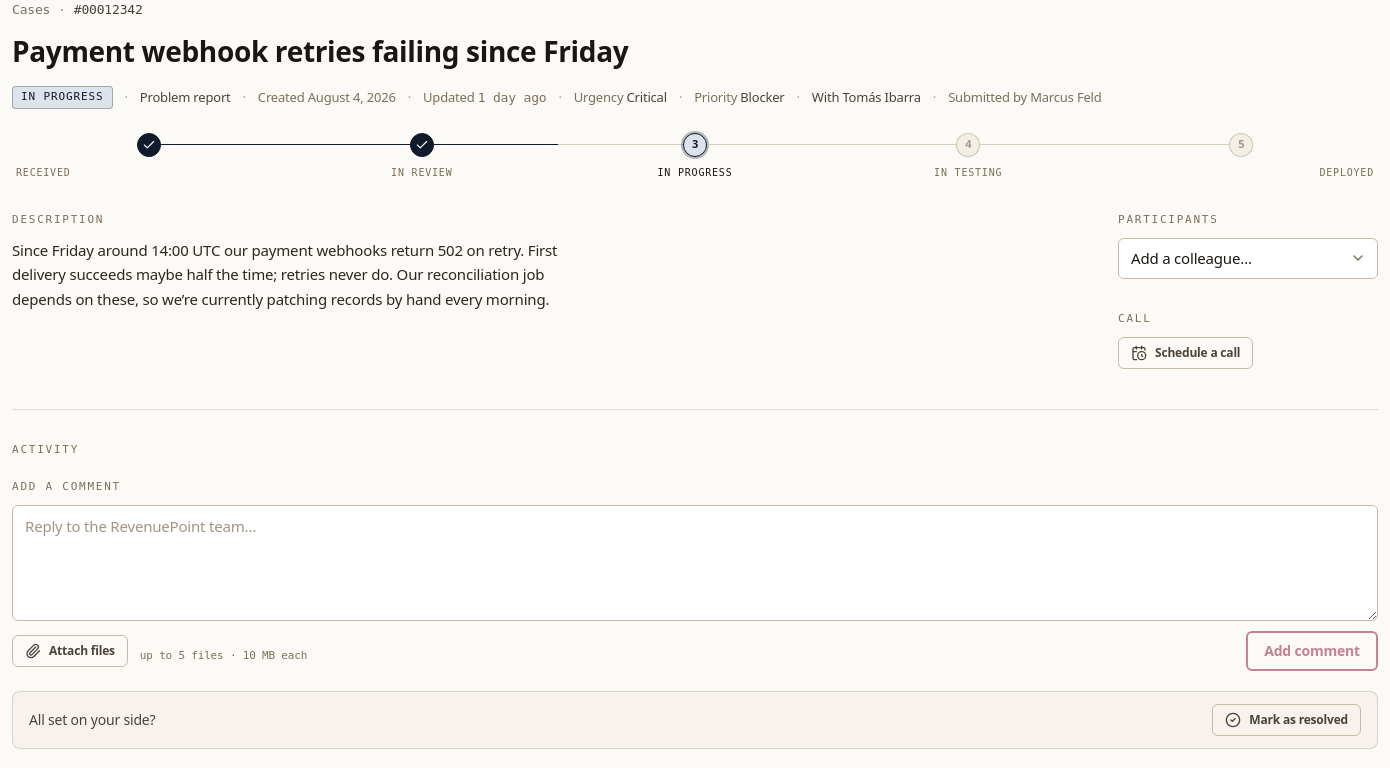
Test: CommentComposer › appends the comment optimistically before the server responds
Check: the heading "Payment webhook retries failing since Friday" is shown, box [12, 32, 628, 70]
Type "Confirmed — retries are flowing again on our side." into the text box labelled "Add a comment" at point(695, 563), box [12, 505, 1378, 620]
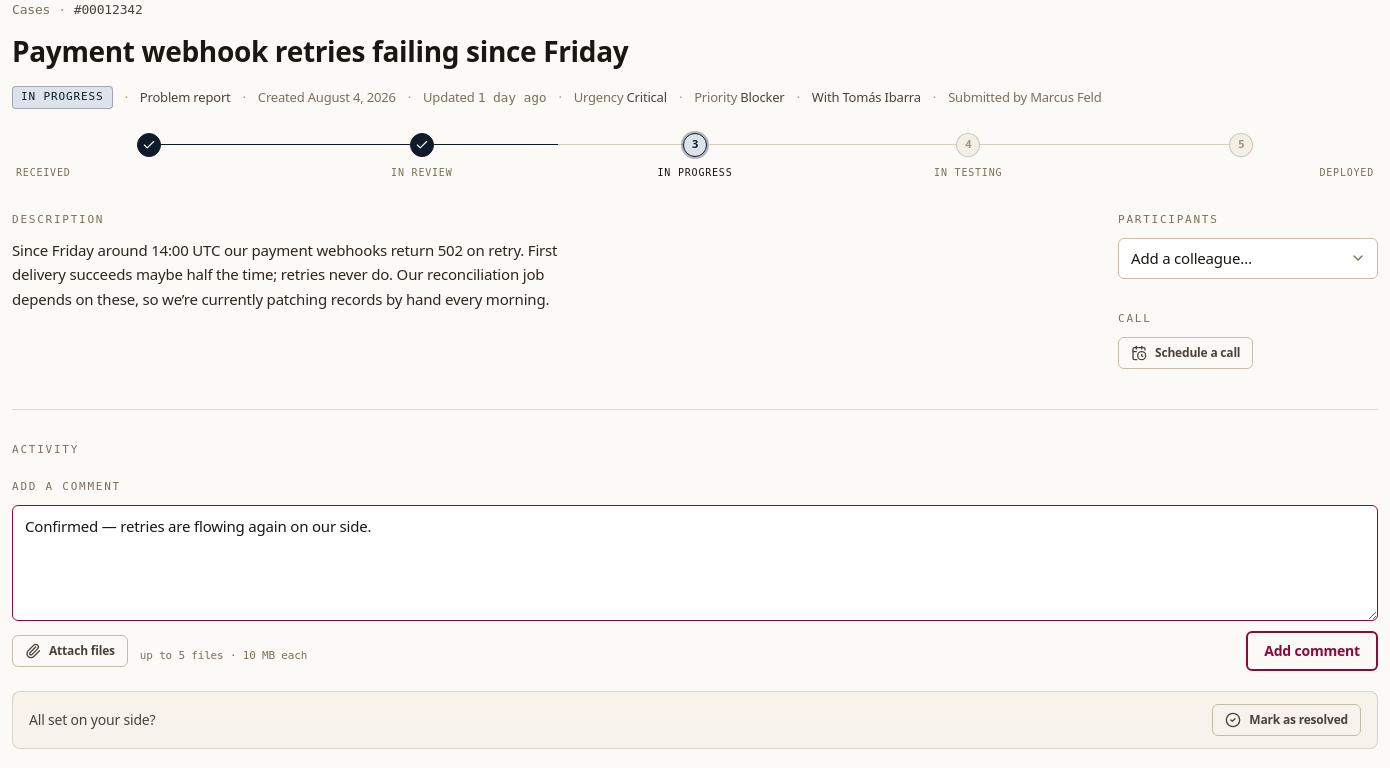
Click the button "Add comment" at point(1312, 650), box [1246, 630, 1378, 670]
(page scrolled)
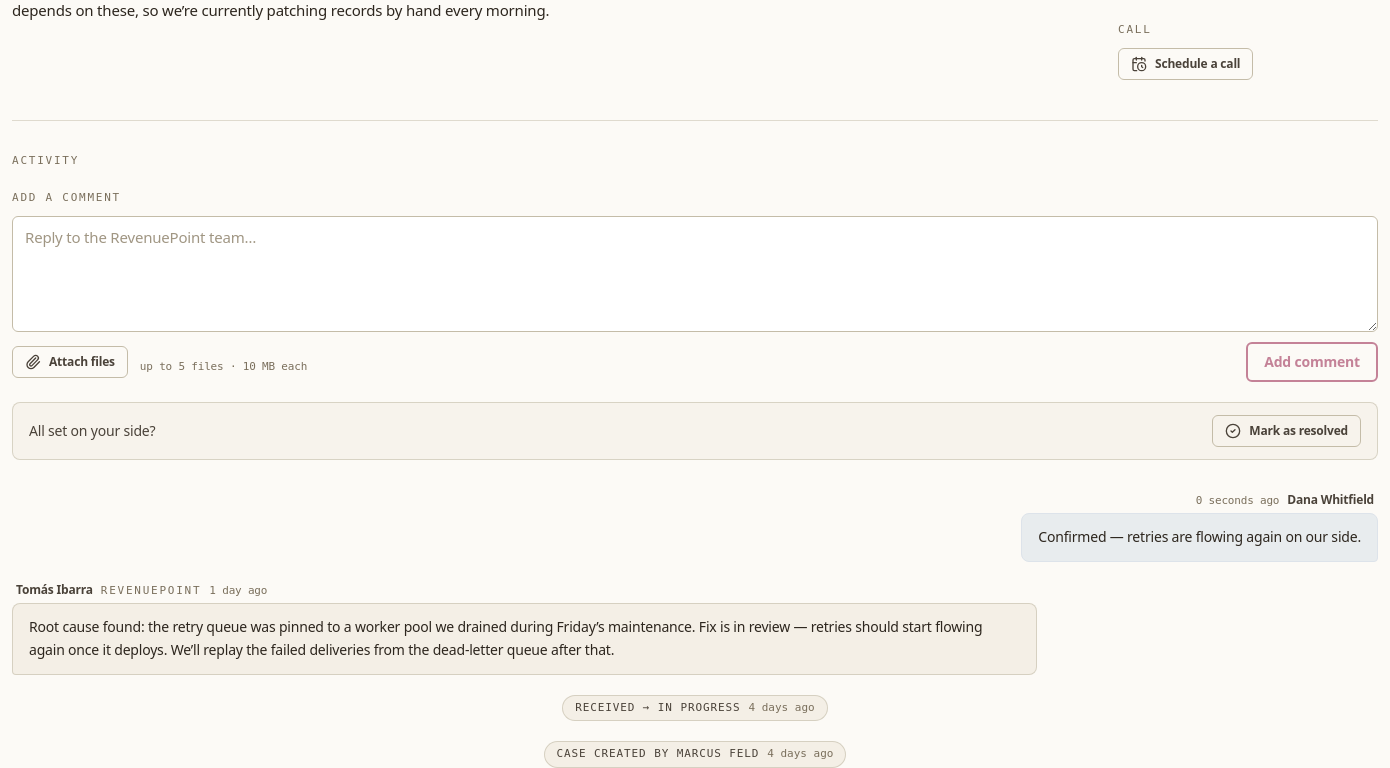
Check: the text box labelled "Add a comment" is empty, box [12, 216, 1378, 332]
Check: the text "Confirmed — retries are flowing again on our side." is shown, box [1038, 526, 1361, 549]
